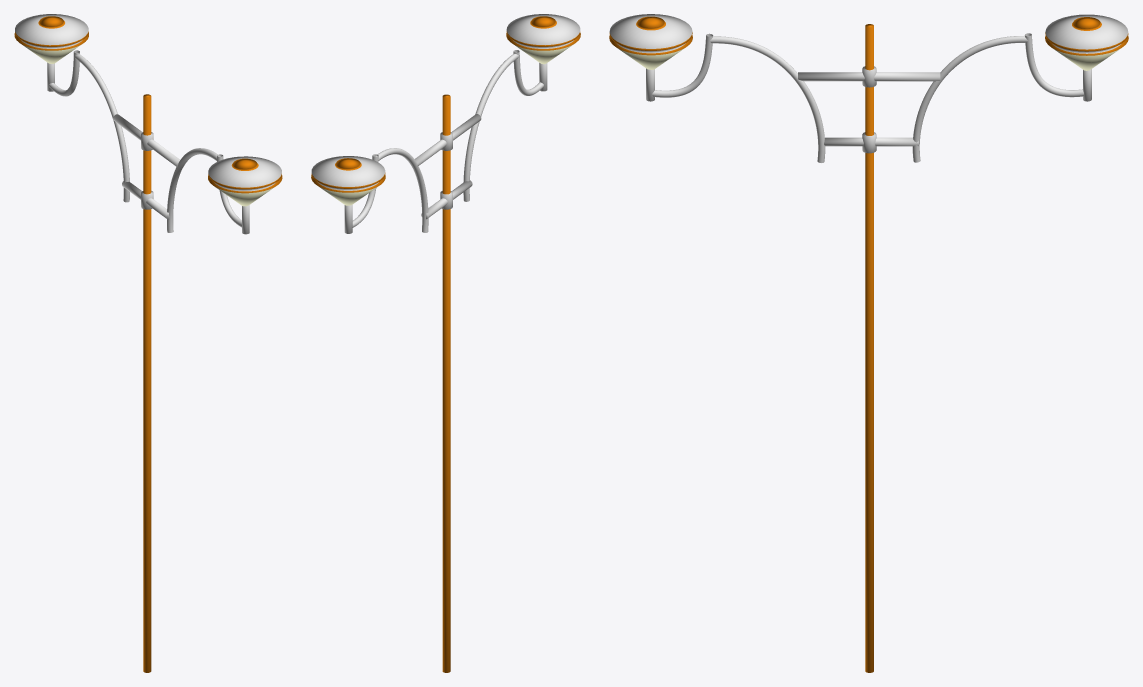
Rendered from Lamp.fbx.
3 views of the same model, side by side, from view 1: azimuth 30°, elevation 25°; view 2: azimuth 150°, elevation 25°; view 3: azimuth 270°, elevation 25° (orthographic). The views are drawn at different scales.
Parts seen in each view (by area): view 1: Main; view 2: Main; view 3: Main.
Boxes of the visible parts, <box> form: Main: <box>14,14,282,672</box>; Main: <box>311,14,580,672</box>; Main: <box>609,14,1128,672</box>.
Bounding box in the file's own units: 292 × 47.82 × 404.
